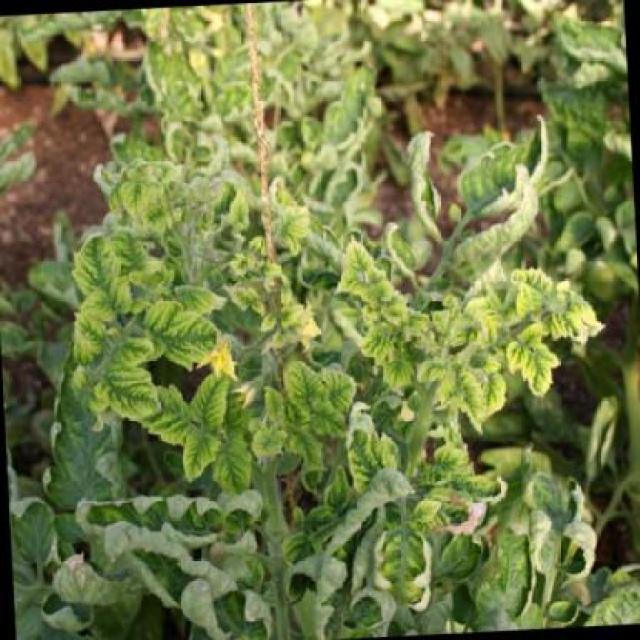Healthy Leaf: (503, 247, 603, 356), (51, 233, 132, 327), (132, 290, 223, 372), (321, 239, 407, 319), (450, 329, 508, 436), (500, 318, 565, 398), (99, 357, 172, 428), (297, 368, 360, 437), (185, 356, 230, 447), (210, 420, 252, 500), (284, 348, 328, 422), (344, 422, 394, 482), (178, 430, 222, 495), (362, 312, 400, 366)
